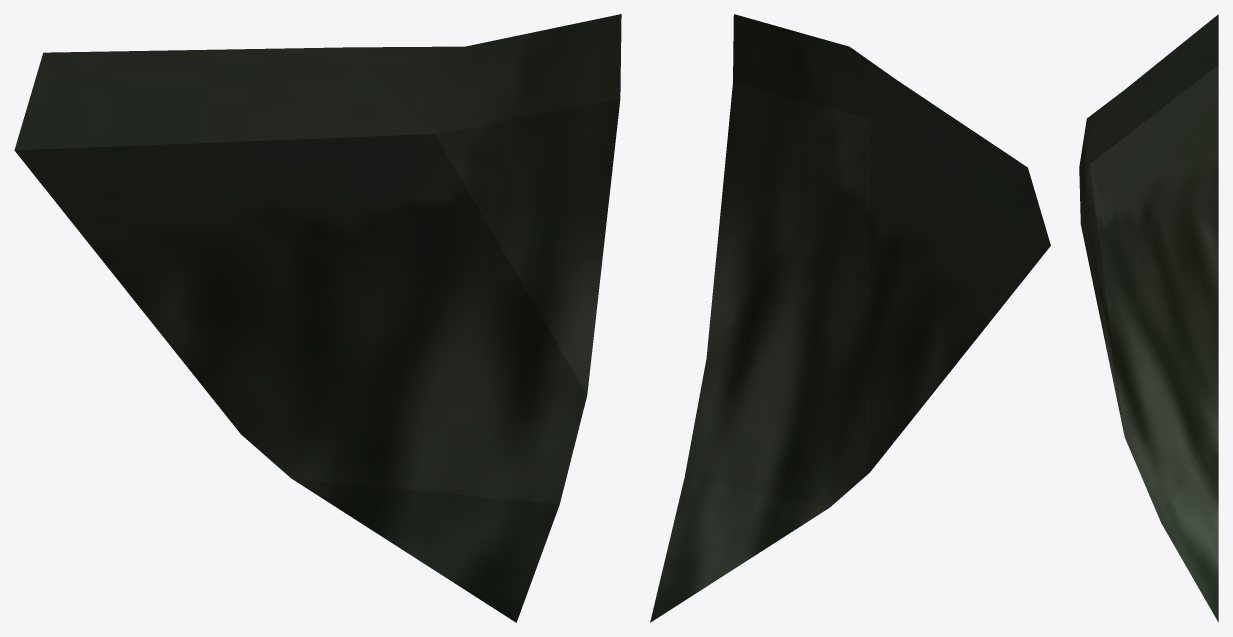
3 renders of one model, left to right at view 1: azimuth 30°, elevation 25°; view 2: azimuth 150°, elevation 25°; view 3: azimuth 270°, elevation 25°, orthographic. The views are drawn at different scales.
Bounding box in the file's own units: 0.5181 × 0.6761 × 0.1876.
Materials: 1 (1 with a texture image).
